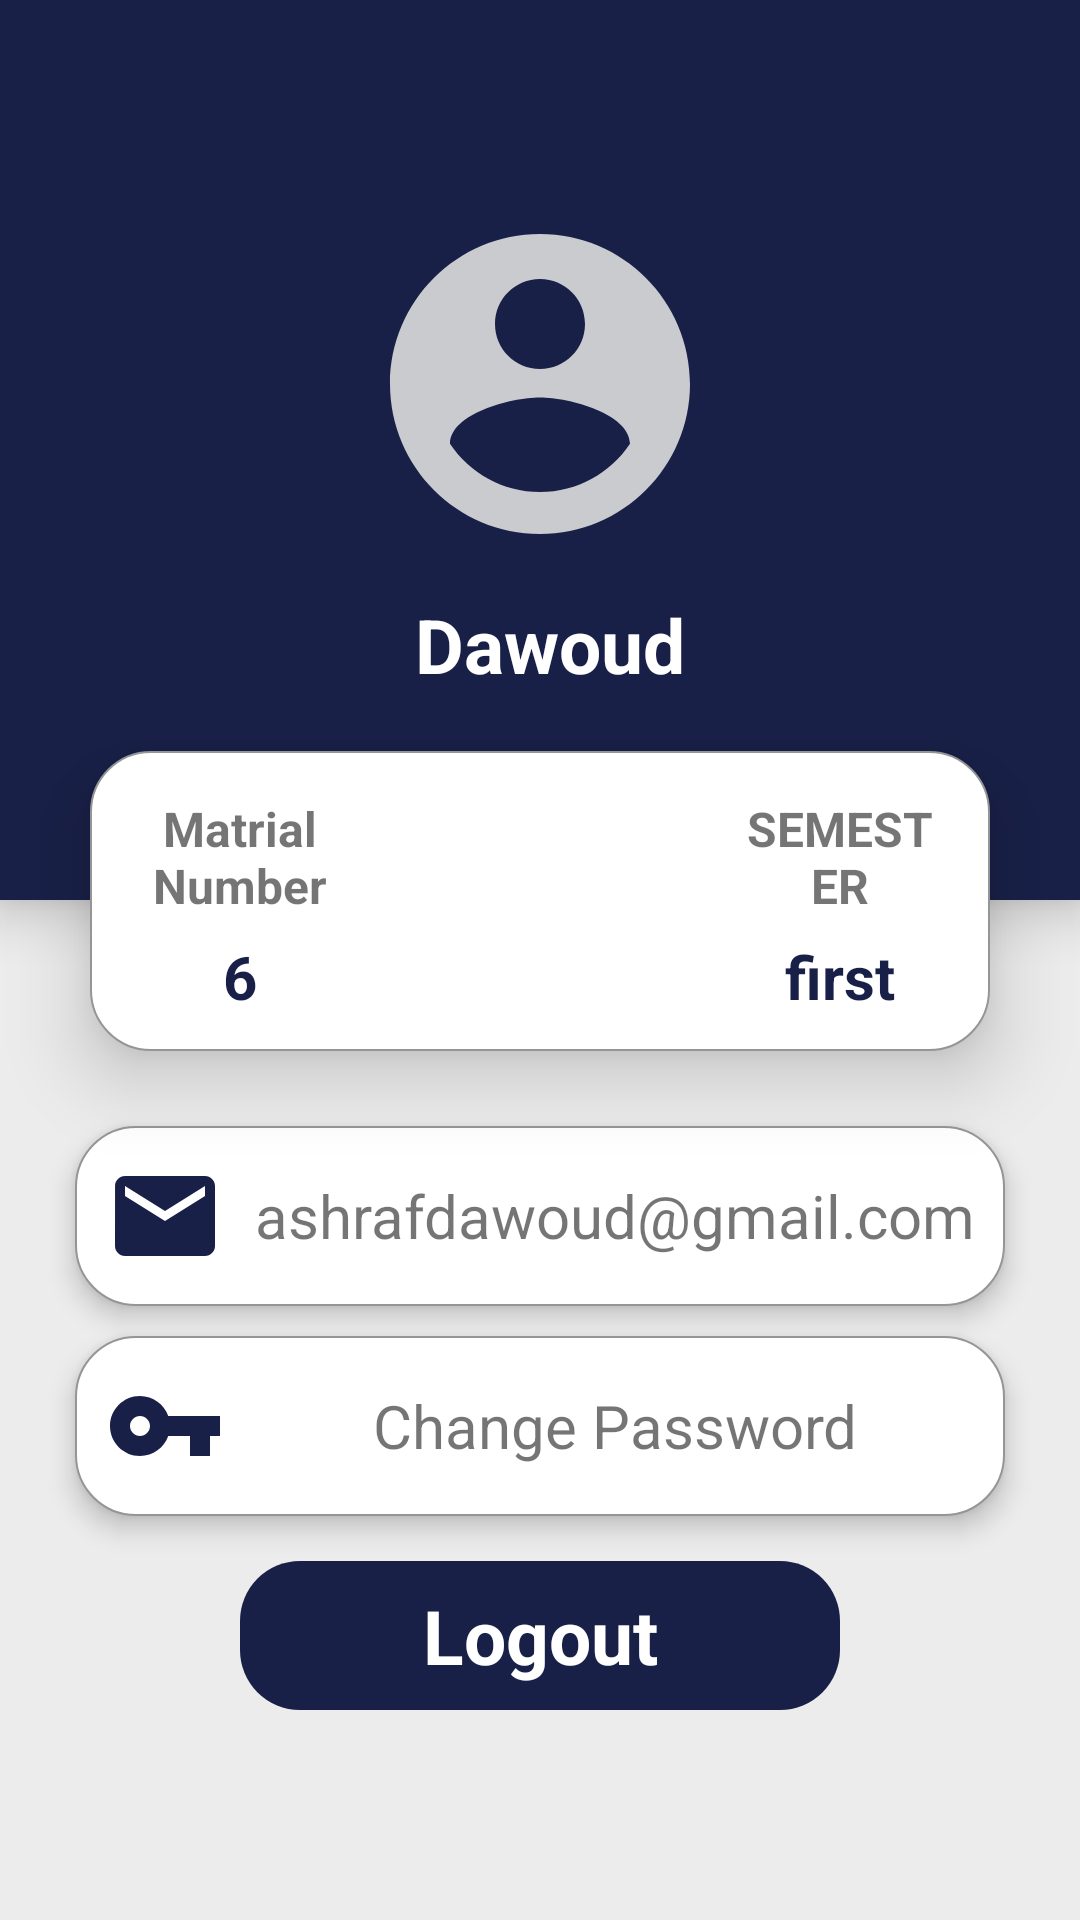

Icons on this 1080 x 1920 Android screen, each with the point to tap as [x,y]:
account circle: [540,384]
email: [165,1216]
vpn key: [165,1426]
